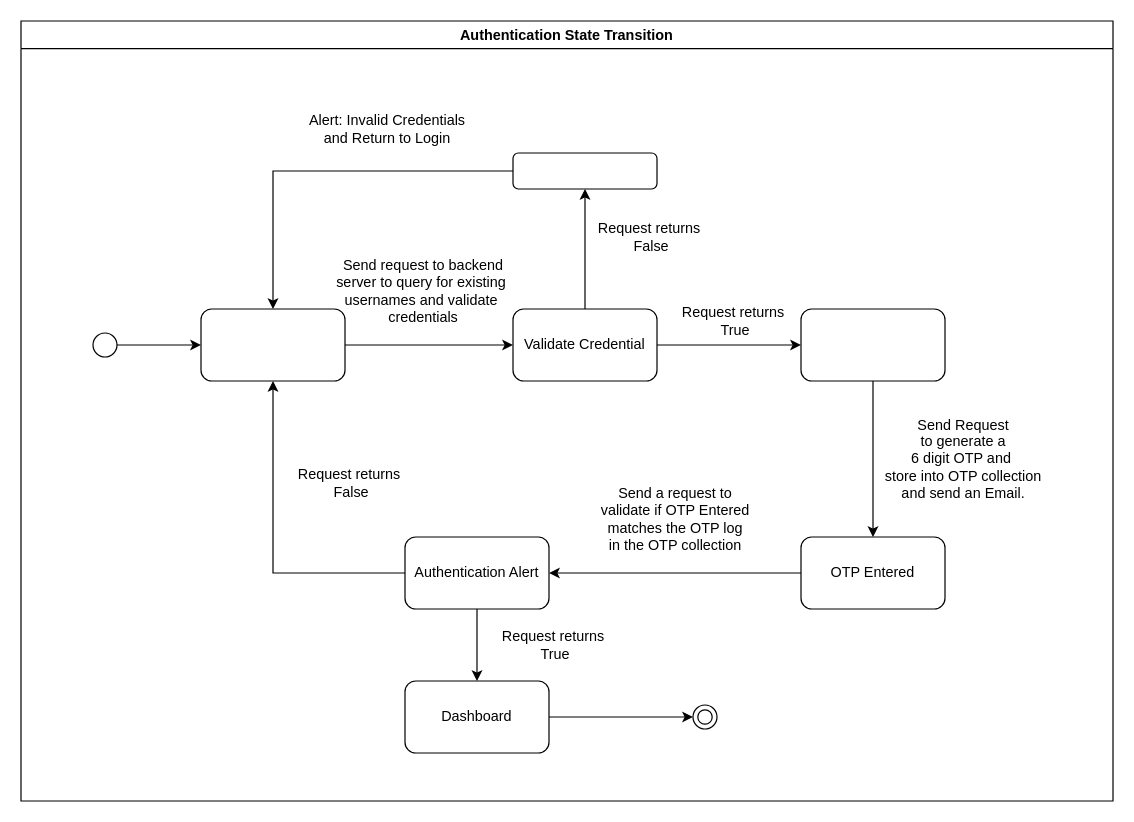
Image size: 1134x822. Some labels were removed from this diagram. Each missing label, with the box of its shape:
Error Alert: (512, 152, 657, 189)
Login Form: (200, 308, 345, 381)
Requesting OTP: (800, 308, 945, 381)
